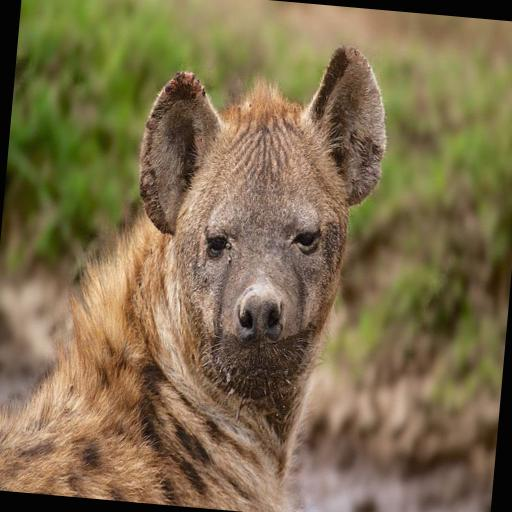hyenas: (0, 13, 430, 512)
